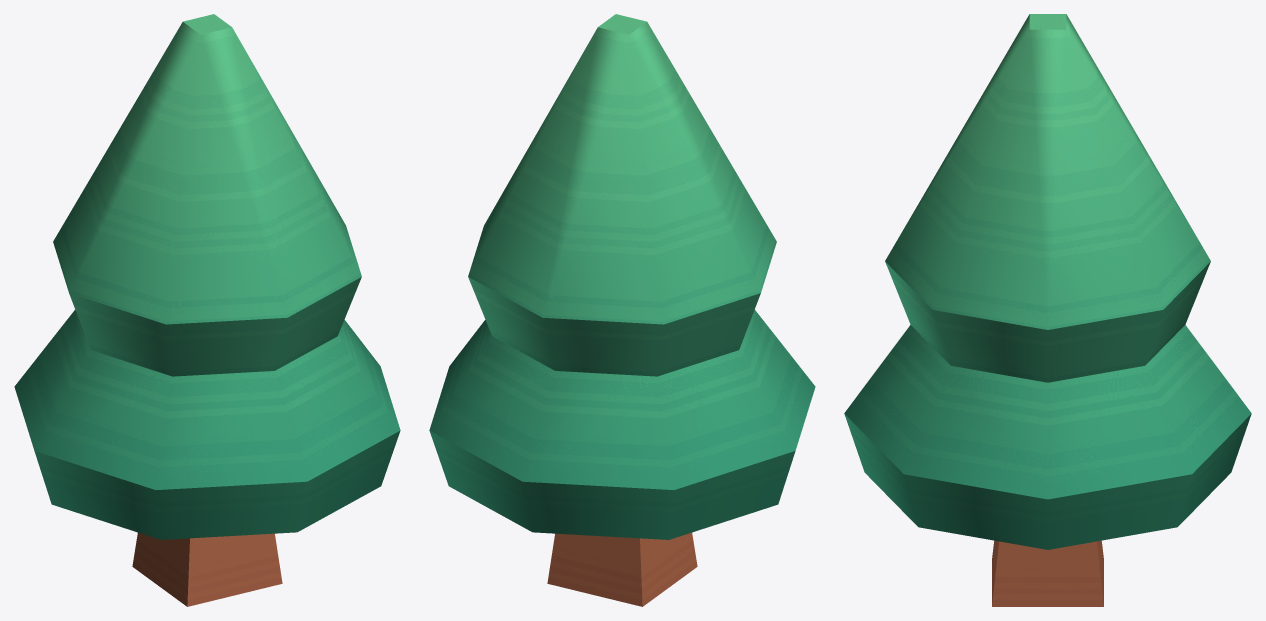
The model's file is detail-tree-large.glb.
The picture shows the model from 3 angles, left to right: view 1: azimuth 30°, elevation 25°; view 2: azimuth 150°, elevation 25°; view 3: azimuth 270°, elevation 25°; orthographic projection.
Parts seen in each view (by area): view 1: detail-tree-large; view 2: detail-tree-large; view 3: detail-tree-large.
Boxes of the visible parts, box(x1,y1,x2,y2) form: detail-tree-large: box(14, 14, 400, 606); detail-tree-large: box(429, 14, 815, 606); detail-tree-large: box(844, 14, 1251, 606).
Size of the model in its own units: 0.5 by 0.76 by 0.5.
Materials: 1 (1 with a texture image).
